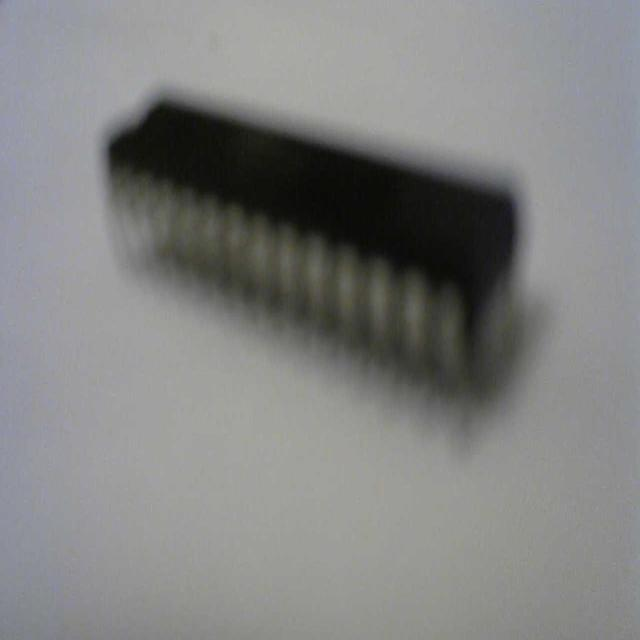atmega: (101, 88, 523, 407)
